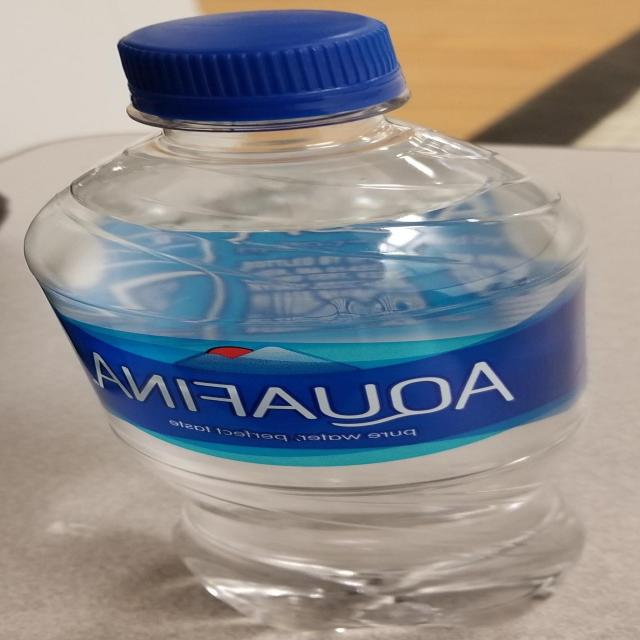bottle: (4, 31, 606, 640)
